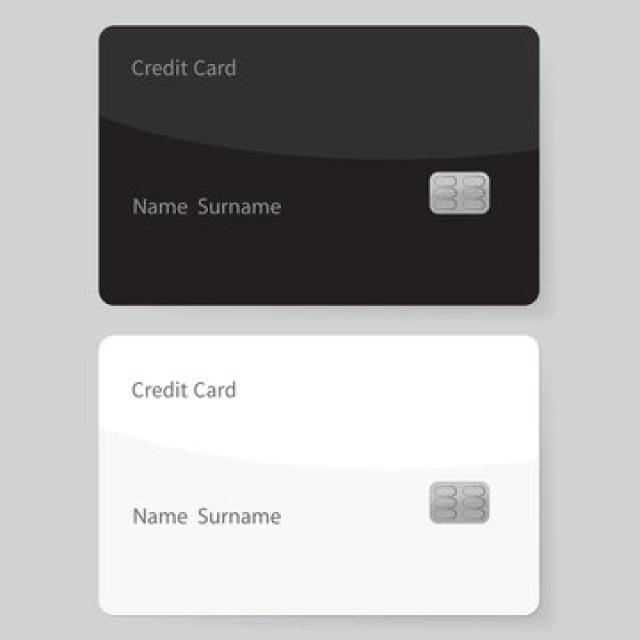payment_card: (97, 333, 541, 616), (97, 23, 541, 305)
